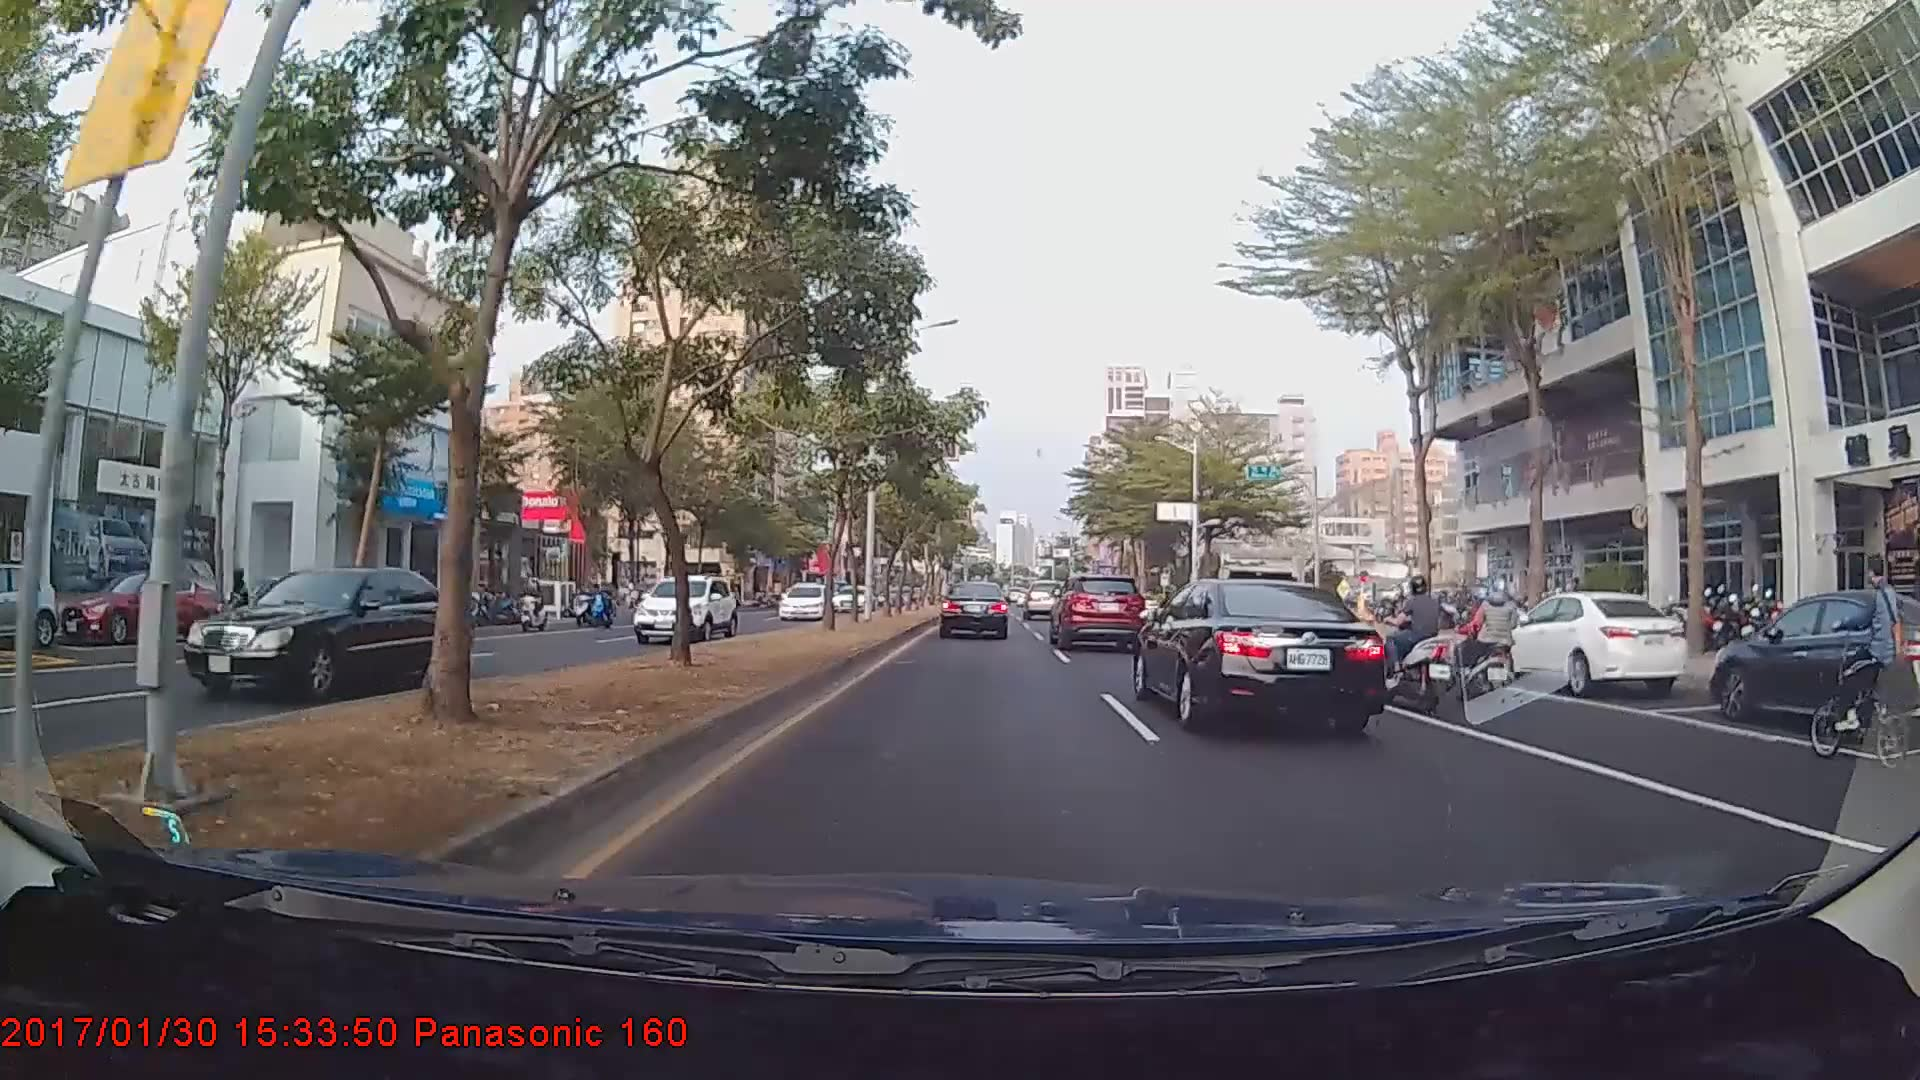rider: (1805, 562, 1910, 770), (1382, 572, 1469, 720), (1451, 578, 1523, 703), (232, 572, 292, 644)
vehicle: (1139, 569, 1380, 734), (184, 566, 478, 699), (1706, 587, 1920, 735), (1511, 585, 1687, 695), (46, 571, 218, 648), (631, 572, 740, 645), (1050, 571, 1144, 653), (0, 559, 62, 646), (938, 579, 1009, 640), (779, 581, 829, 622), (1024, 580, 1056, 618)
